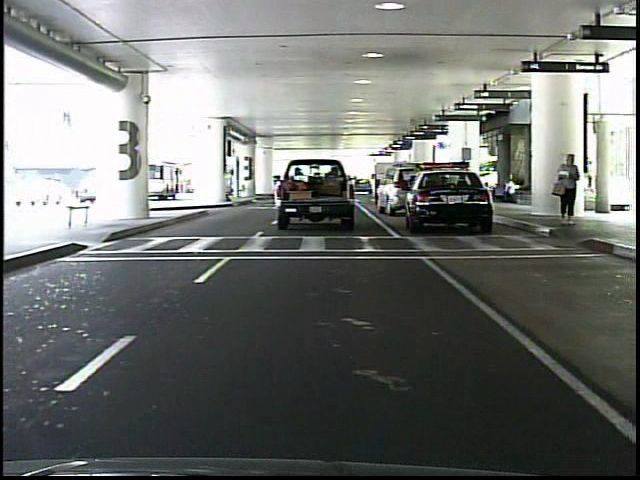person: (553, 148, 584, 230)
